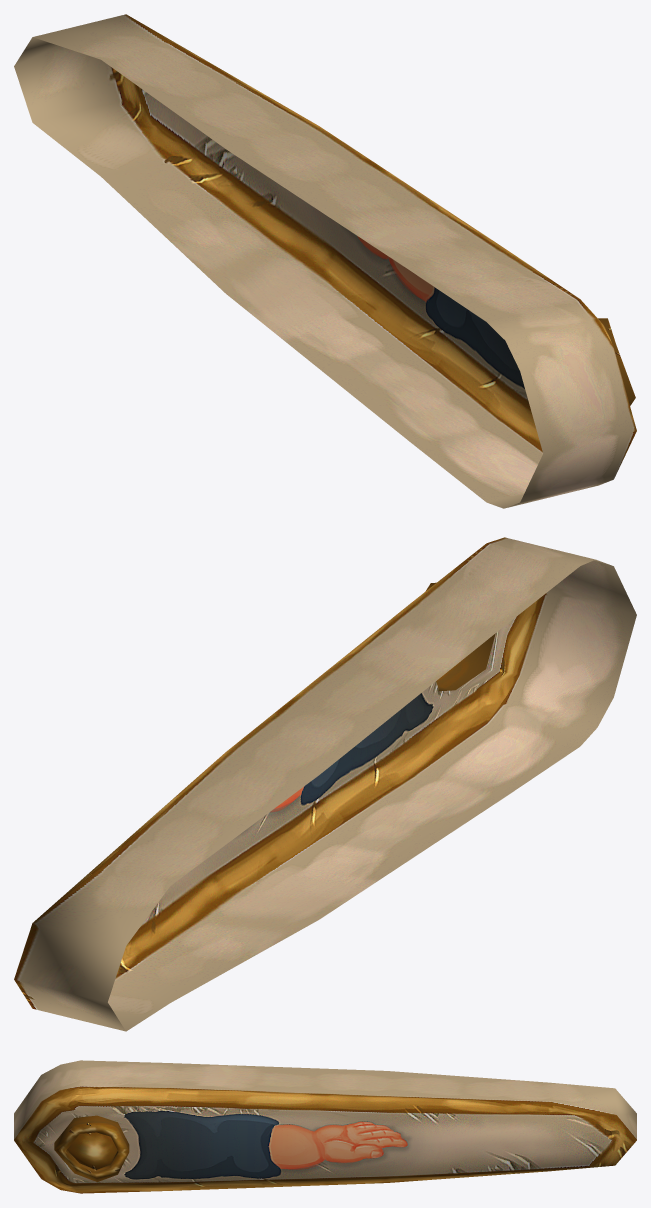
The model's file is mirrored_paddle.fbx.
3 renders of one model, top to bottom at view 1: azimuth 30°, elevation 25°; view 2: azimuth 150°, elevation 25°; view 3: azimuth 270°, elevation 25°, orthographic. The views are drawn at different scales.
Visible parts, largest first — view 1: paddlemirror; view 2: paddlemirror; view 3: paddlemirror.
Part boxes in pixels (box(x1,y1,x2,y2)): paddlemirror: box(14, 14, 636, 508); paddlemirror: box(14, 537, 636, 1031); paddlemirror: box(14, 1060, 636, 1193).
Size of the model in its own units: 0.9789 by 1.2 by 6.37.
